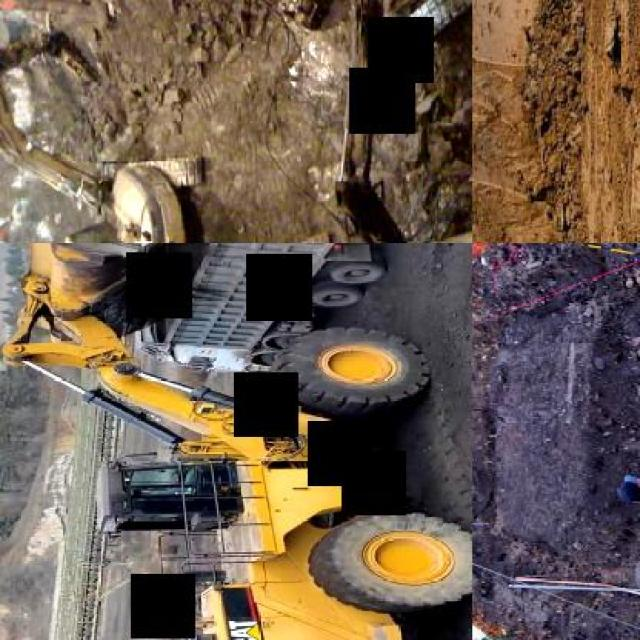buldozerpayloadergrader: (0, 243, 471, 639)
dump_truck: (132, 243, 396, 374)
excavator: (0, 25, 209, 242), (337, 0, 471, 242)
